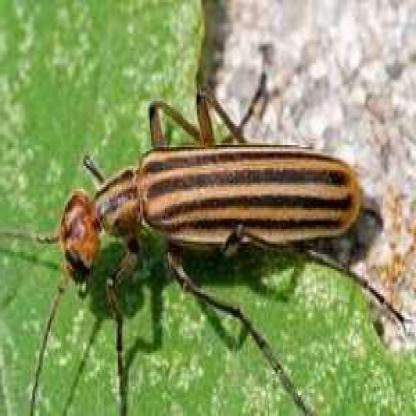blister beetle: (7, 83, 380, 414)
